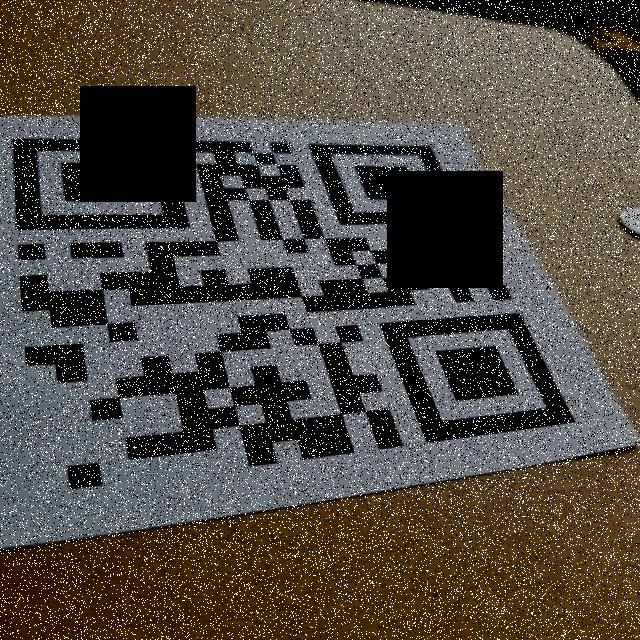QR_CODE: (6, 118, 592, 502)
